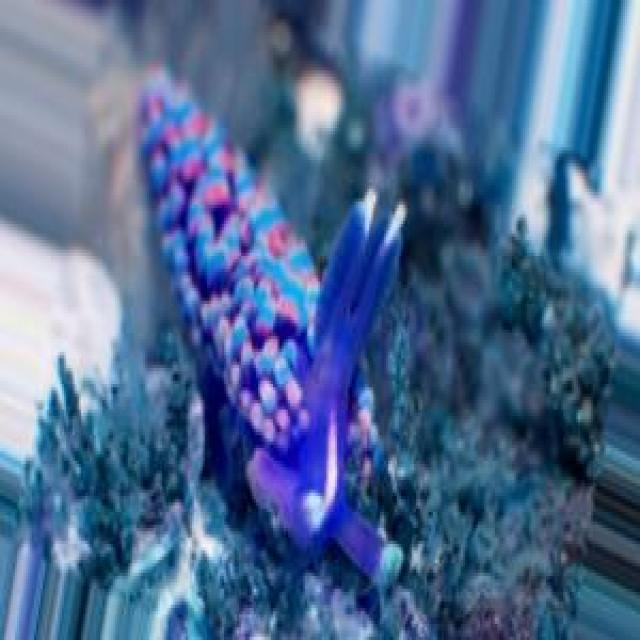Healthy: (125, 71, 402, 628)
